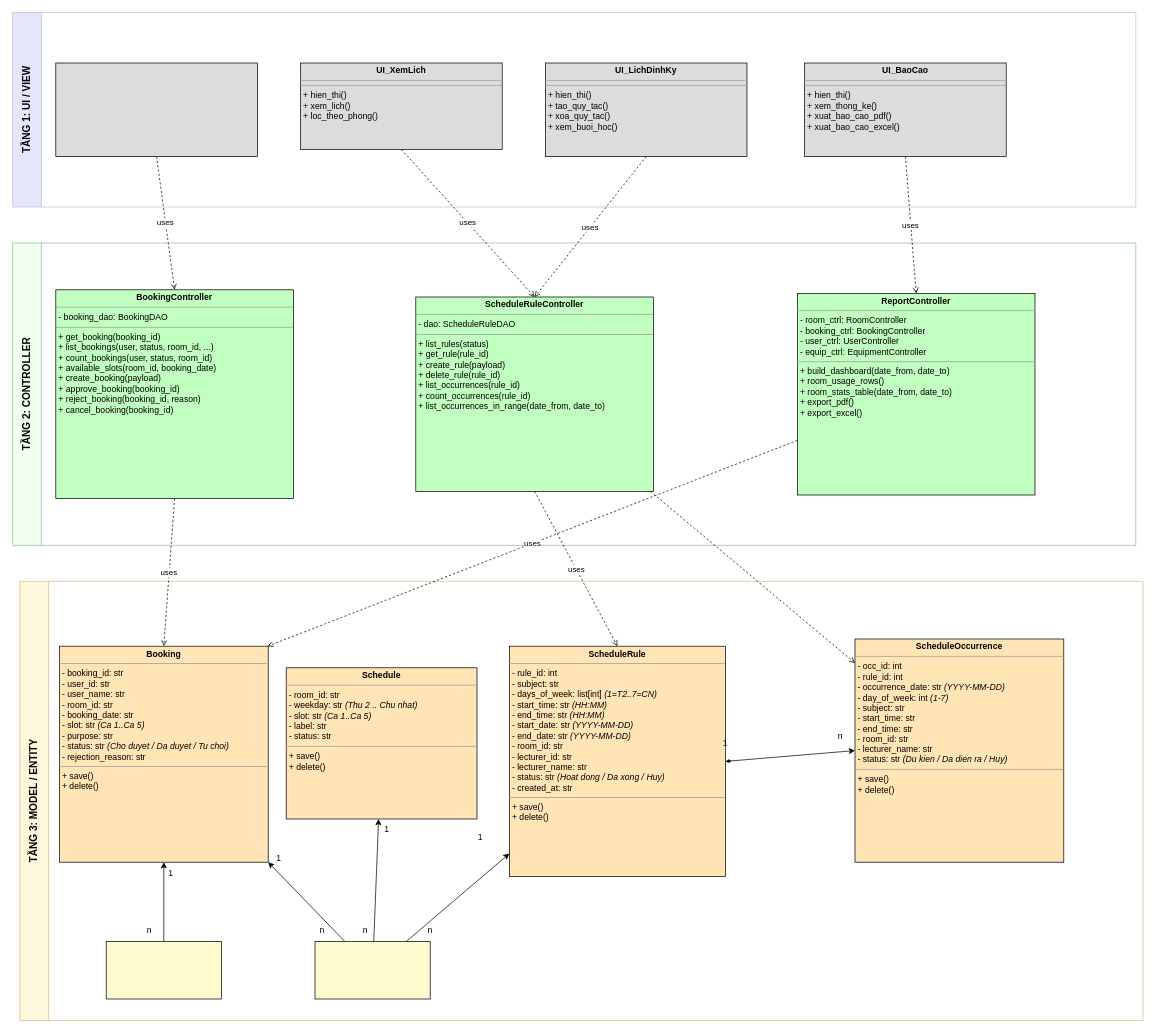
The diagram is 1156 pixels wide and 1033 high, and some of its shapes have lost their labels. Each missing label, with the centre of its shape:
"Room - room_id: str - name: str" goes at point 372,970.
"UI_DatPhong + hien_thi() + dat_phong() + huy_dat_phong() + duyet_dat_phong()" goes at point 156,109.
"User - user_id: str - full_name: str" goes at point 163,970.
